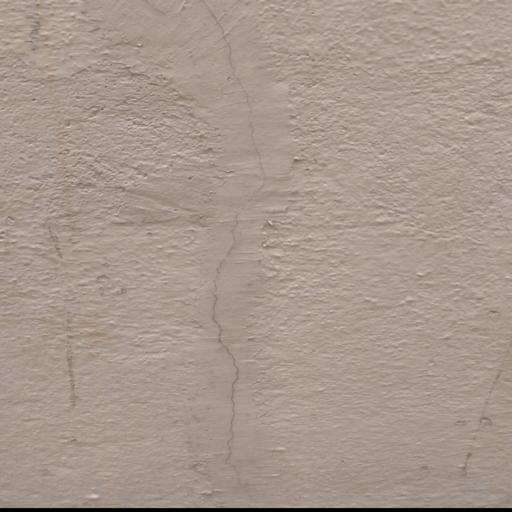minor_crack: (173, 0, 274, 512)
